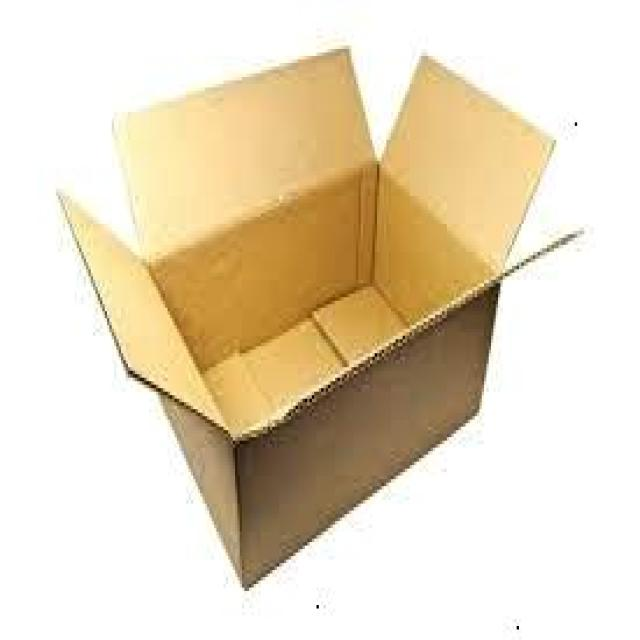box: (52, 45, 586, 592)
opened: (53, 46, 584, 445)
